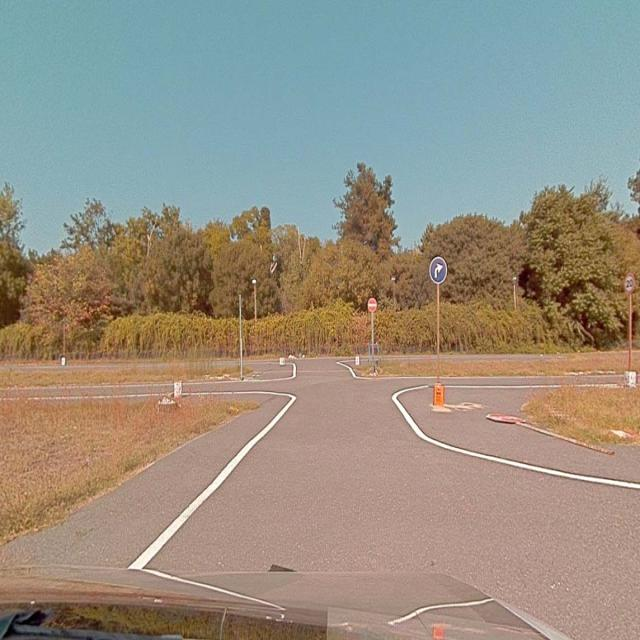20: (624, 273, 634, 292)
girisyok: (367, 298, 376, 311)
sag: (429, 256, 446, 284)
